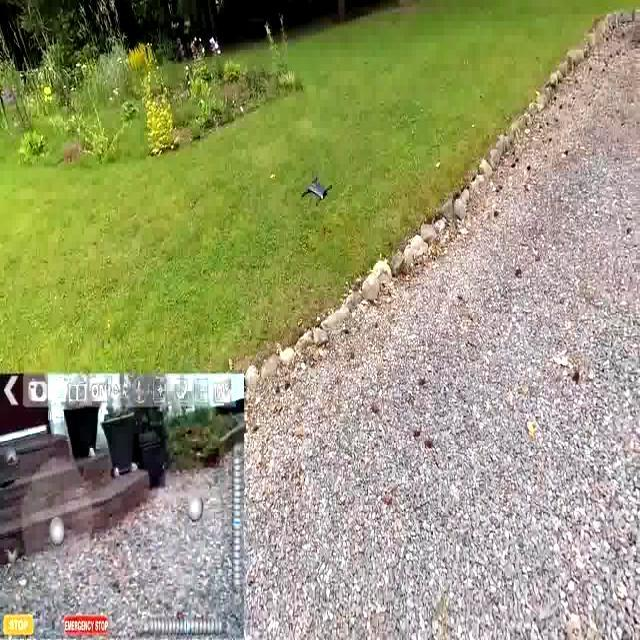drone: (294, 164, 332, 208)
